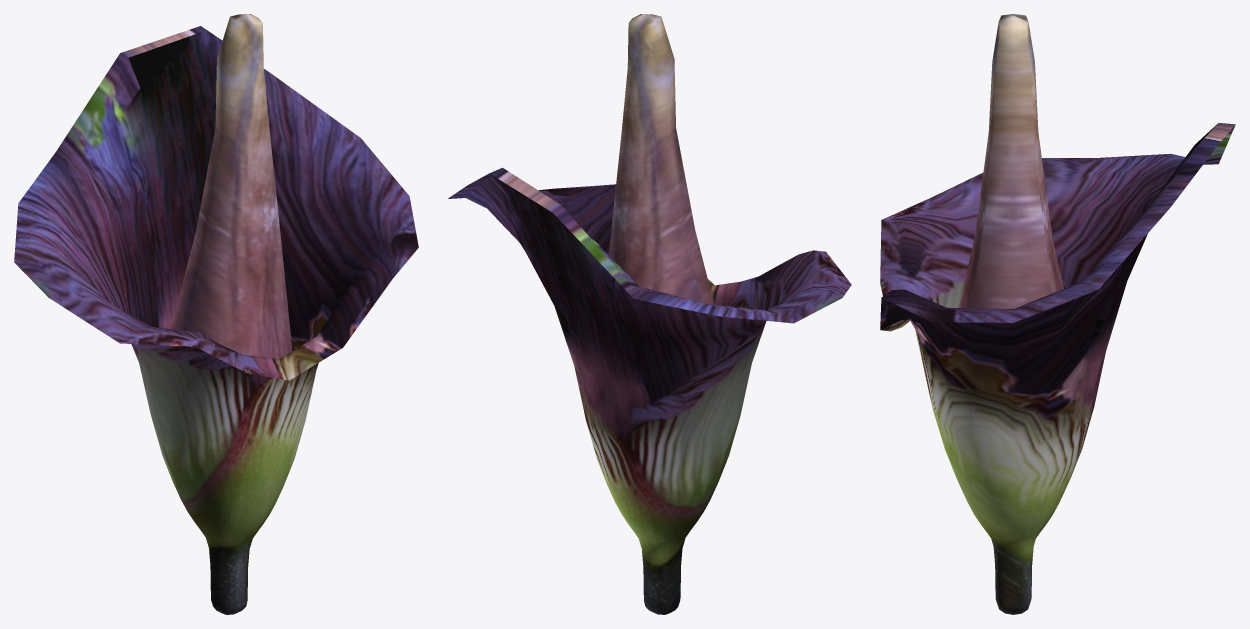
The model's file is Bunga bangkai jakung.fbx.
The picture shows the model from 3 angles, left to right: view 1: azimuth 30°, elevation 25°; view 2: azimuth 150°, elevation 25°; view 3: azimuth 270°, elevation 25°; orthographic projection.
Visible parts, largest first — view 1: Cube; view 2: Cube; view 3: Cube.
Part boxes in pixels (x1,y1,x2,y2): Cube: [14, 14, 418, 614]; Cube: [448, 14, 851, 614]; Cube: [880, 14, 1235, 614].
Size of the model in its own units: 793 by 1250 by 666.
1 material, 1 textured.
